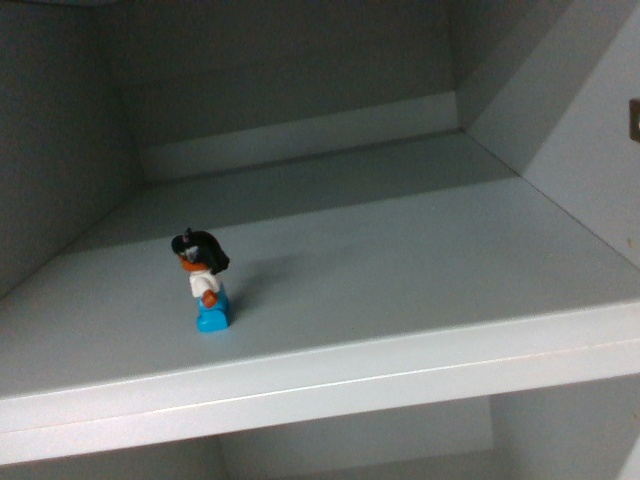people: (172, 231, 232, 336)
